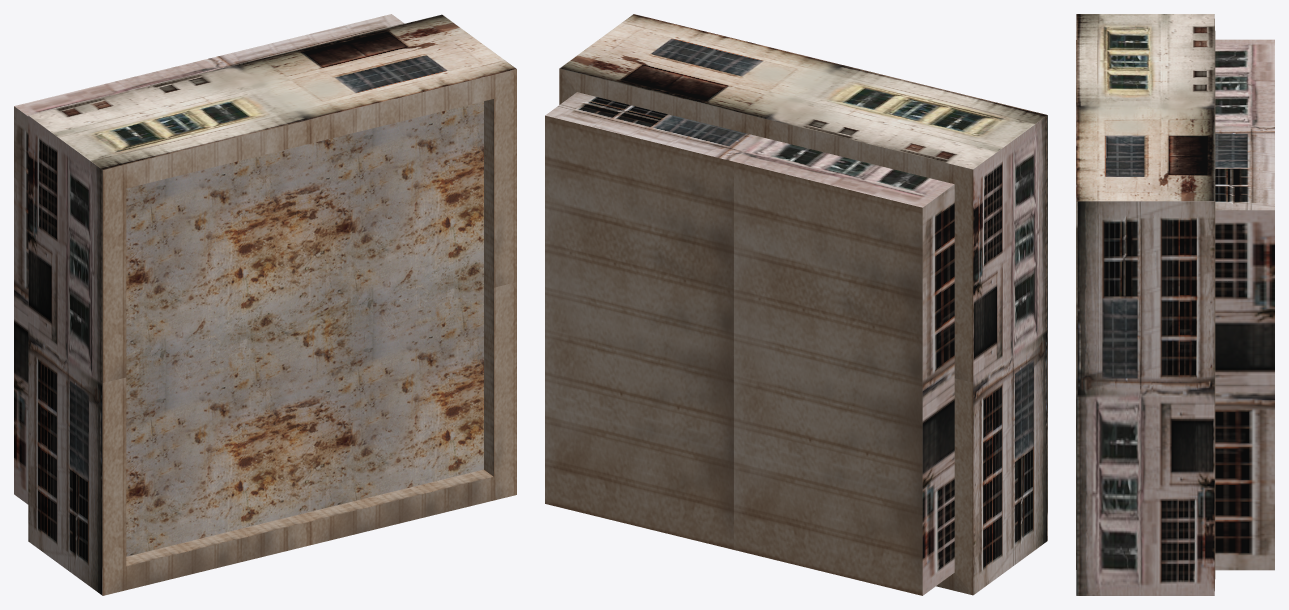
File: urbanoffice3Bc_wtf.obj
3 renders of one model, left to right at view 1: azimuth 30°, elevation 25°; view 2: azimuth 150°, elevation 25°; view 3: azimuth 270°, elevation 25°, orthographic. The views are drawn at different scales.
Parts seen in each view (by area): view 1: group4, group5, group3; view 2: group3, group5; view 3: group5, group3.
Part boxes in pixels (bbox=[...]): group4: bbox=[126, 101, 483, 556]; group5: bbox=[14, 14, 516, 595]; group3: bbox=[102, 69, 516, 595]; group3: bbox=[545, 68, 973, 595]; group5: bbox=[545, 14, 1047, 595]; group5: bbox=[1076, 14, 1274, 595]; group3: bbox=[1076, 19, 1215, 590].
Size of the model in its own units: 660 by 648 by 296.
